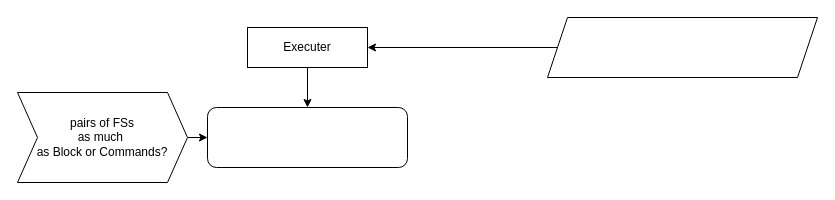
This 835x200 diagram has some shape labels left out. Each missing label, with the centre of its shape:
get List of Command Blocks: [682,47]
infile command with options outfile: [307,137]
